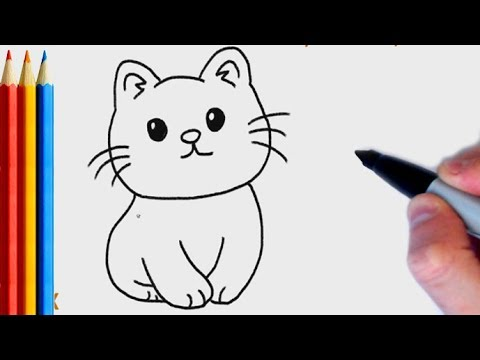cat: (88, 58, 296, 309)
